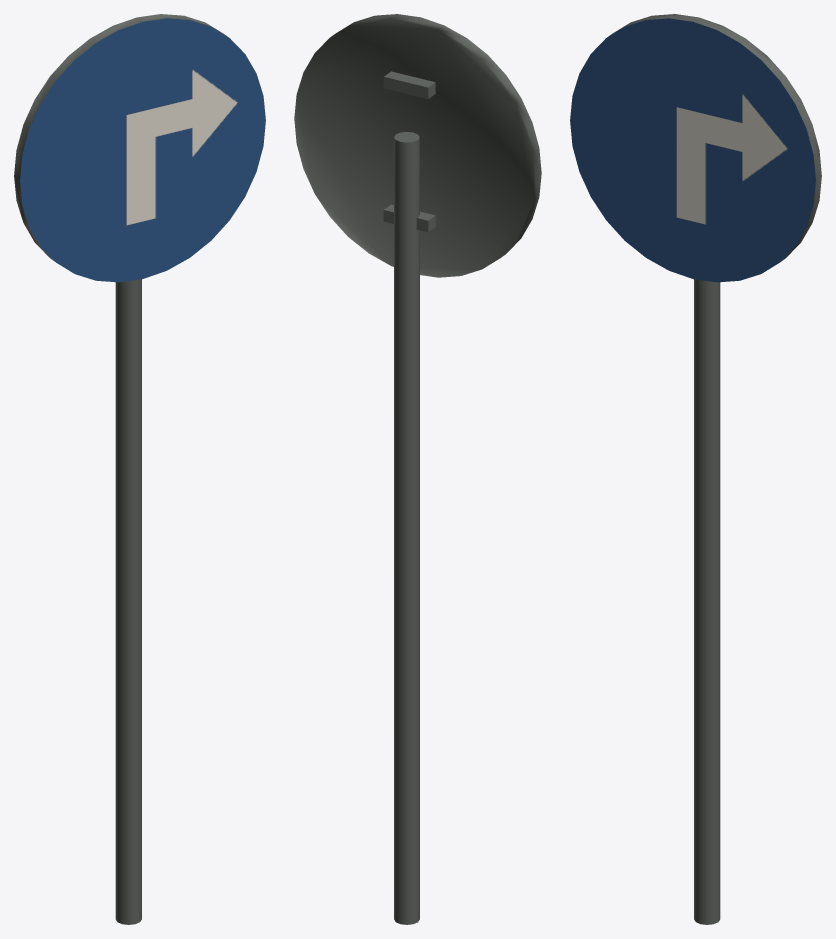
File: MS_SG_11_TurnRight.glb
3 renders of one model, left to right at view 1: azimuth 30°, elevation 25°; view 2: azimuth 150°, elevation 25°; view 3: azimuth 330°, elevation 25°, orthographic.
Visible parts, largest first — view 1: SignFace, _MeshInstance3D_72, _MeshInstance3D_74; view 2: _MeshInstance3D_74, _MeshInstance3D_72, _MeshInstance3D_76, _MeshInstance3D_75; view 3: SignFace, _MeshInstance3D_72, _MeshInstance3D_74.
Boxes of the visible parts, x1,y1,x2,y2 form: SignFace: [20, 18, 265, 282]; _MeshInstance3D_72: [115, 279, 141, 924]; _MeshInstance3D_74: [14, 14, 227, 261]; _MeshInstance3D_74: [294, 14, 541, 277]; _MeshInstance3D_72: [394, 132, 419, 924]; _MeshInstance3D_76: [383, 71, 435, 98]; _MeshInstance3D_75: [383, 204, 435, 232]; SignFace: [570, 18, 815, 282]; _MeshInstance3D_72: [694, 279, 720, 924]; _MeshInstance3D_74: [608, 14, 821, 261].
Size of the model in its own units: 0.7594 by 2.68 by 0.111.
2 materials, 1 textured.
